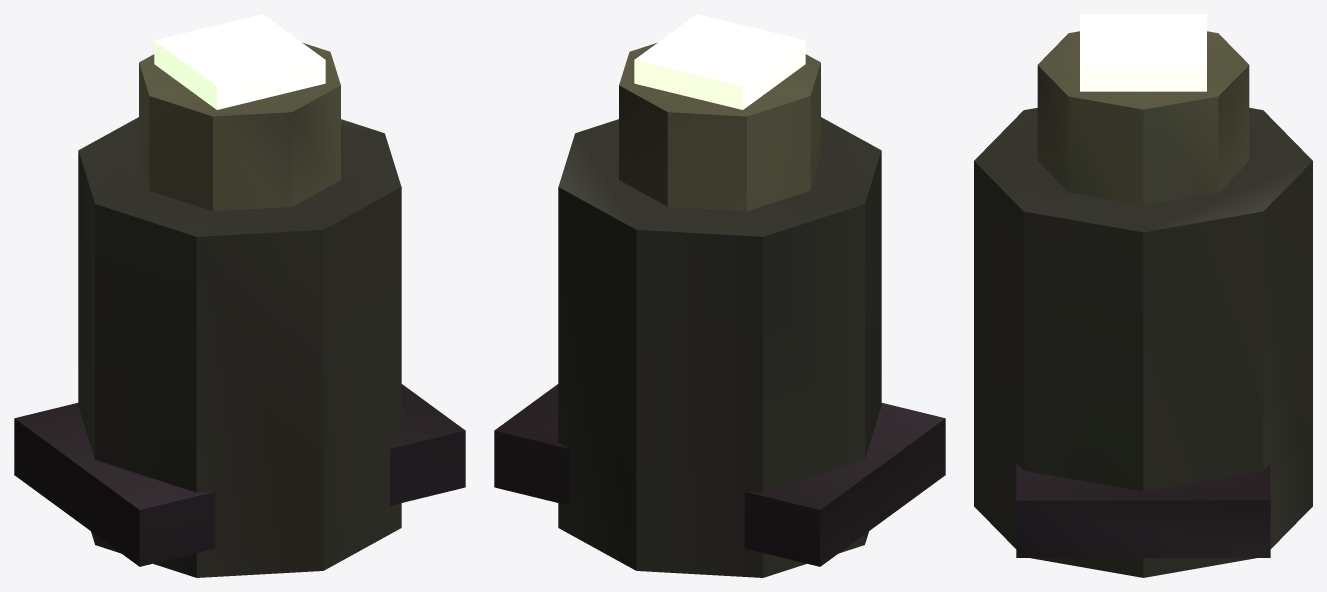
The model's file is egg.glb.
The picture shows the model from 3 angles, left to right: view 1: azimuth 30°, elevation 25°; view 2: azimuth 150°, elevation 25°; view 3: azimuth 270°, elevation 25°; orthographic projection.
Parts seen in each view (by area): view 1: egg; view 2: egg; view 3: egg.
Part boxes in pixels (<box>): egg: <box>14,14,465,577</box>; egg: <box>494,14,945,577</box>; egg: <box>974,14,1312,577</box>.
Size of the model in its own units: 18 by 24.25 by 16.
